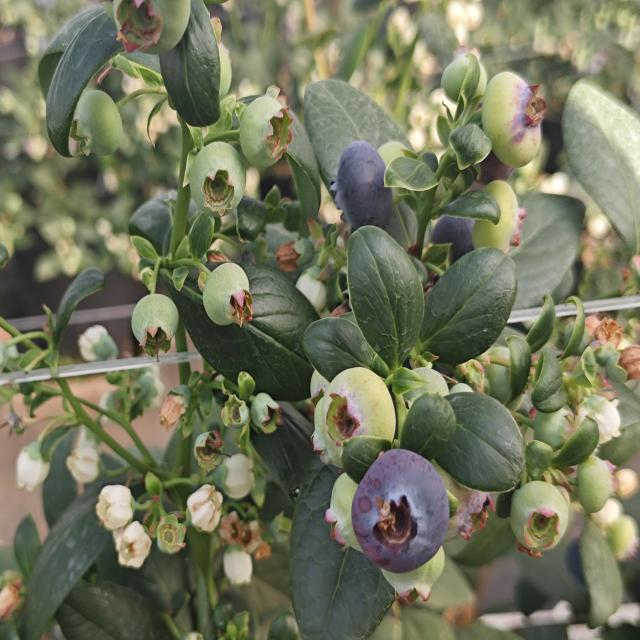ripe: (348, 446, 452, 576), (326, 138, 394, 234), (424, 198, 483, 280)
